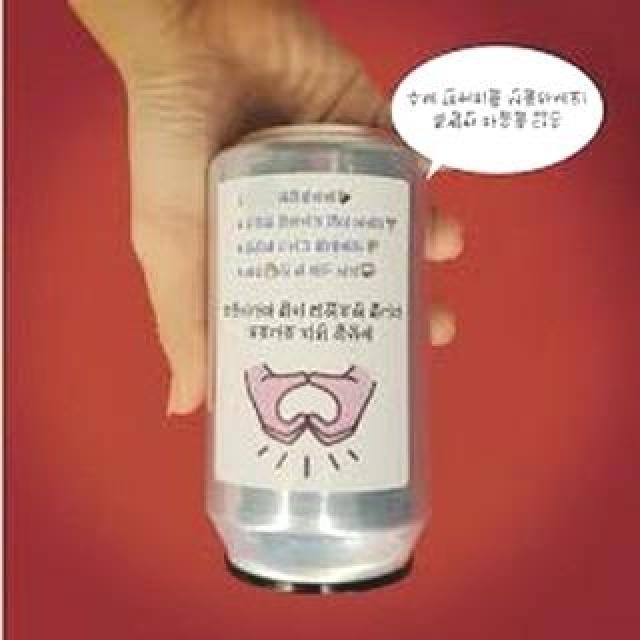Can: (198, 118, 430, 600)
